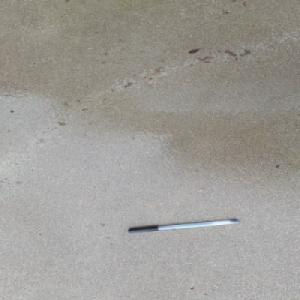Pen: (127, 218, 240, 233)
